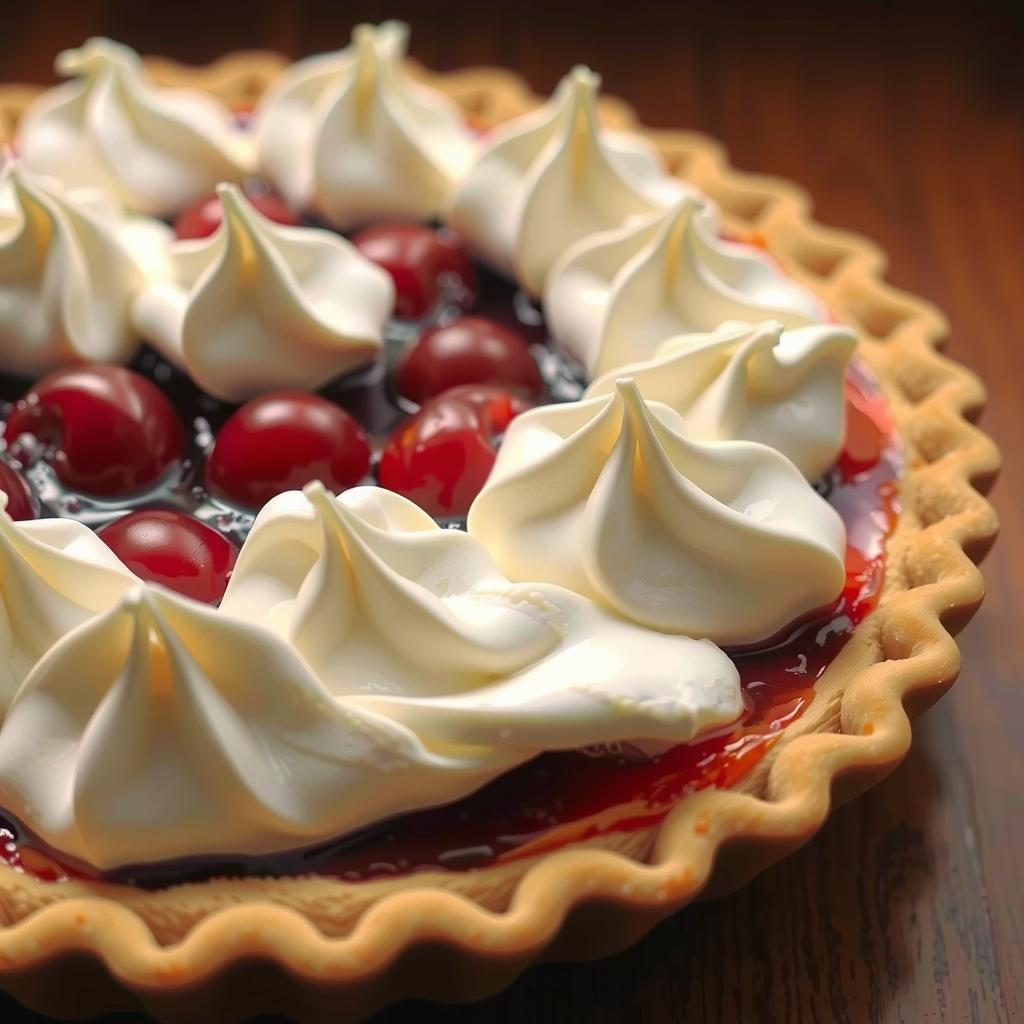pie: (0, 34, 1009, 1024)
